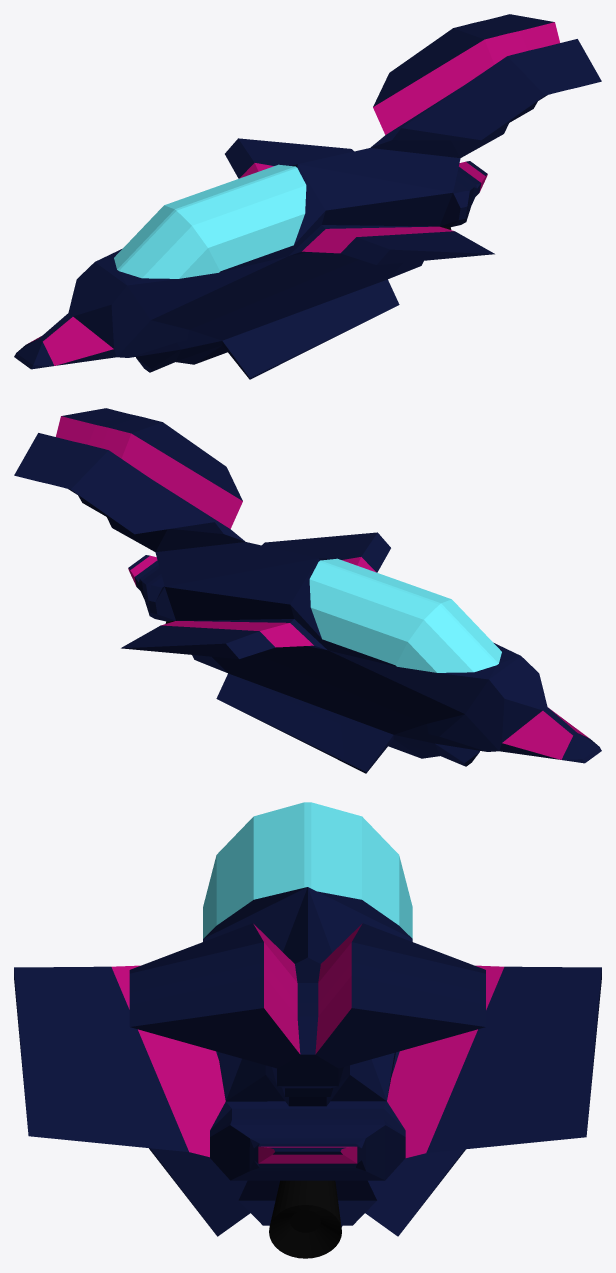
The model's file is ship_enemy.fbx.
The picture shows the model from 3 angles, top to bottom: view 1: azimuth 30°, elevation 25°; view 2: azimuth 150°, elevation 25°; view 3: azimuth 270°, elevation 25°; orthographic projection. The views are drawn at different scales.
Visible parts, largest first — view 1: Ship_enemy; view 2: Ship_enemy; view 3: Ship_enemy.
Part boxes in pixels (bbox=[...]): Ship_enemy: bbox=[14, 14, 601, 379]; Ship_enemy: bbox=[14, 408, 601, 773]; Ship_enemy: bbox=[14, 802, 601, 1258].
Size of the model in its own units: 387 by 162 by 187.
